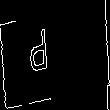P_S: (44, 27, 66, 83)
